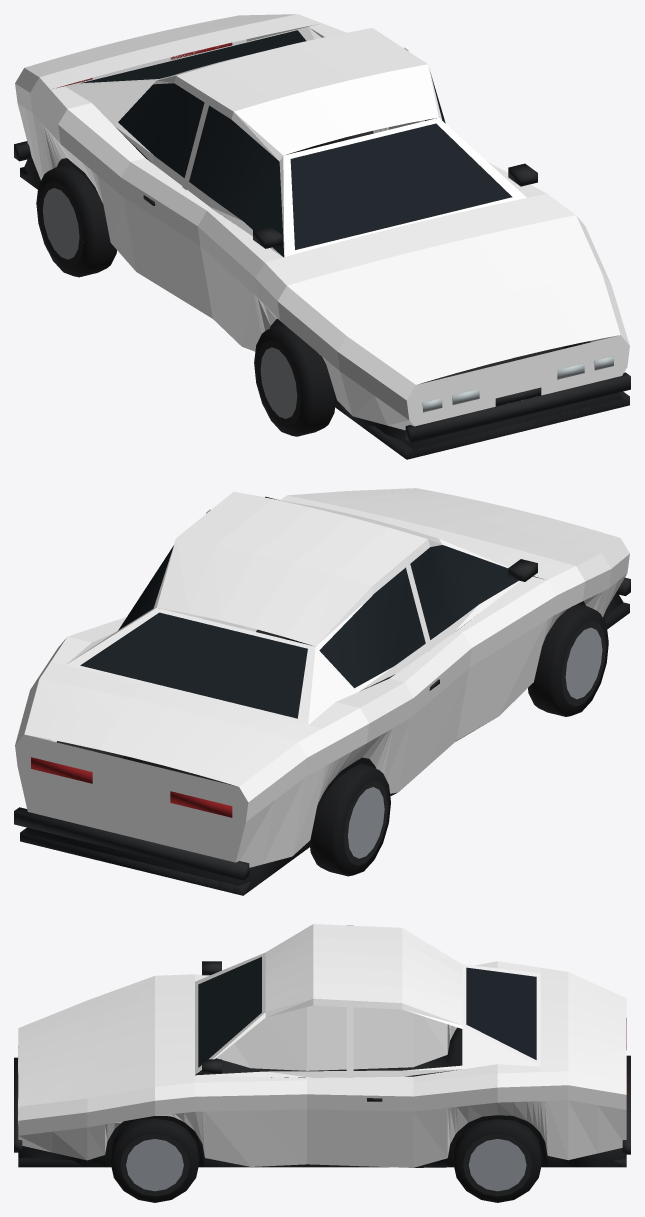
Rendered from kanaya_prisma.glb.
The picture shows the model from 3 angles, top to bottom: view 1: azimuth 30°, elevation 25°; view 2: azimuth 150°, elevation 25°; view 3: azimuth 270°, elevation 25°; orthographic projection. The views are drawn at different scales.
Parts seen in each view (by area): view 1: Body_Paint, Body_Details, Mount_FrontLeft_Wheel_Details, Mount_RearLeft_Wheel_Details; view 2: Body_Paint, Body_Details, Mount_RearLeft_Wheel_Details, Mount_FrontLeft_Wheel_Details; view 3: Body_Paint, Body_Details, Mount_FrontRight_Wheel_Details, Mount_RearRight_Wheel_Details.
Part boxes in pixels (left/top/right/bottom): Body_Paint: left=15, top=14, right=629, bottom=430; Body_Details: left=14, top=30, right=630, bottom=459; Mount_FrontLeft_Wheel_Details: left=254, top=324, right=336, bottom=436; Mount_RearLeft_Wheel_Details: left=36, top=164, right=116, bottom=277; Body_Paint: left=15, top=488, right=629, bottom=867; Body_Details: left=14, top=496, right=630, bottom=895; Mount_RearLeft_Wheel_Details: left=309, top=763, right=390, bottom=876; Mount_FrontLeft_Wheel_Details: left=528, top=604, right=608, bottom=716; Body_Paint: left=18, top=924, right=626, bottom=1167; Body_Details: left=14, top=957, right=630, bottom=1167; Mount_FrontRight_Wheel_Details: left=110, top=1118, right=199, bottom=1202; Mount_RearRight_Wheel_Details: left=453, top=1119, right=542, bottom=1202.
Size of the model in its own units: 1.84 by 1.35 by 4.01.
Materials: 2 (1 with a texture image).
